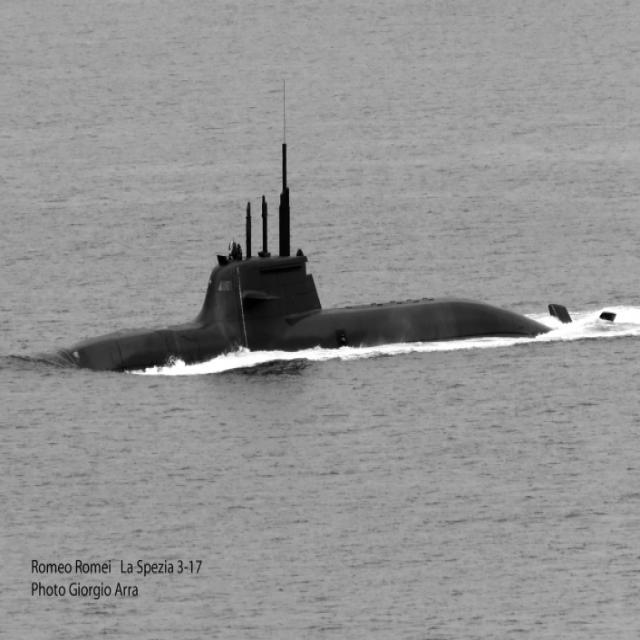submarine: (34, 125, 640, 396)
